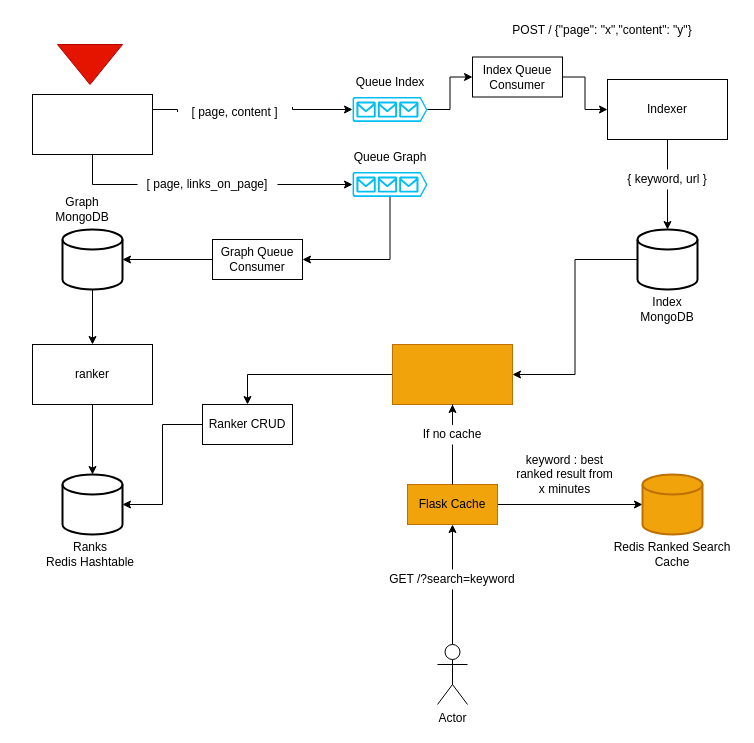
Image size: 754x743. Some labels were removed from this diagram. The centre of each missing label's shape, as x and y in pixels:
"Crawler" goes at point (92, 124).
"searcher" goes at point (452, 374).
"seed" goes at point (89, 64).
